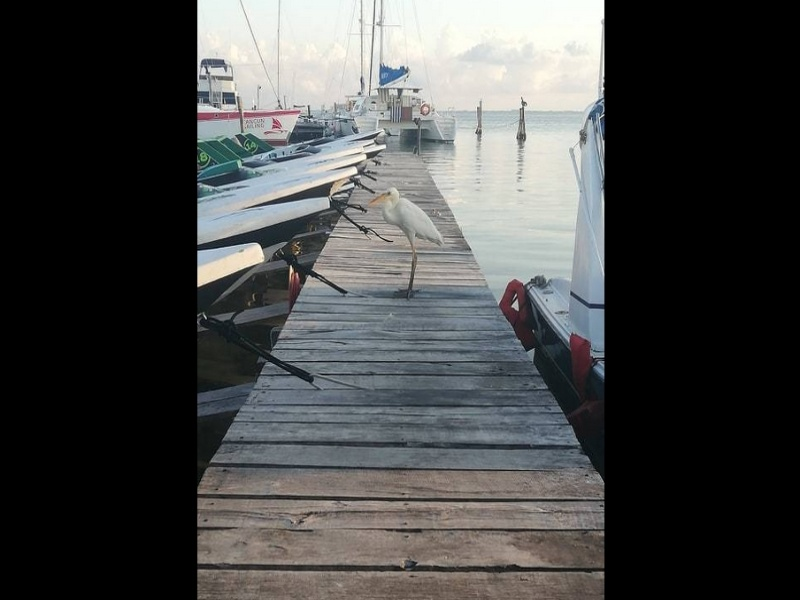heron: (373, 187, 449, 300)
